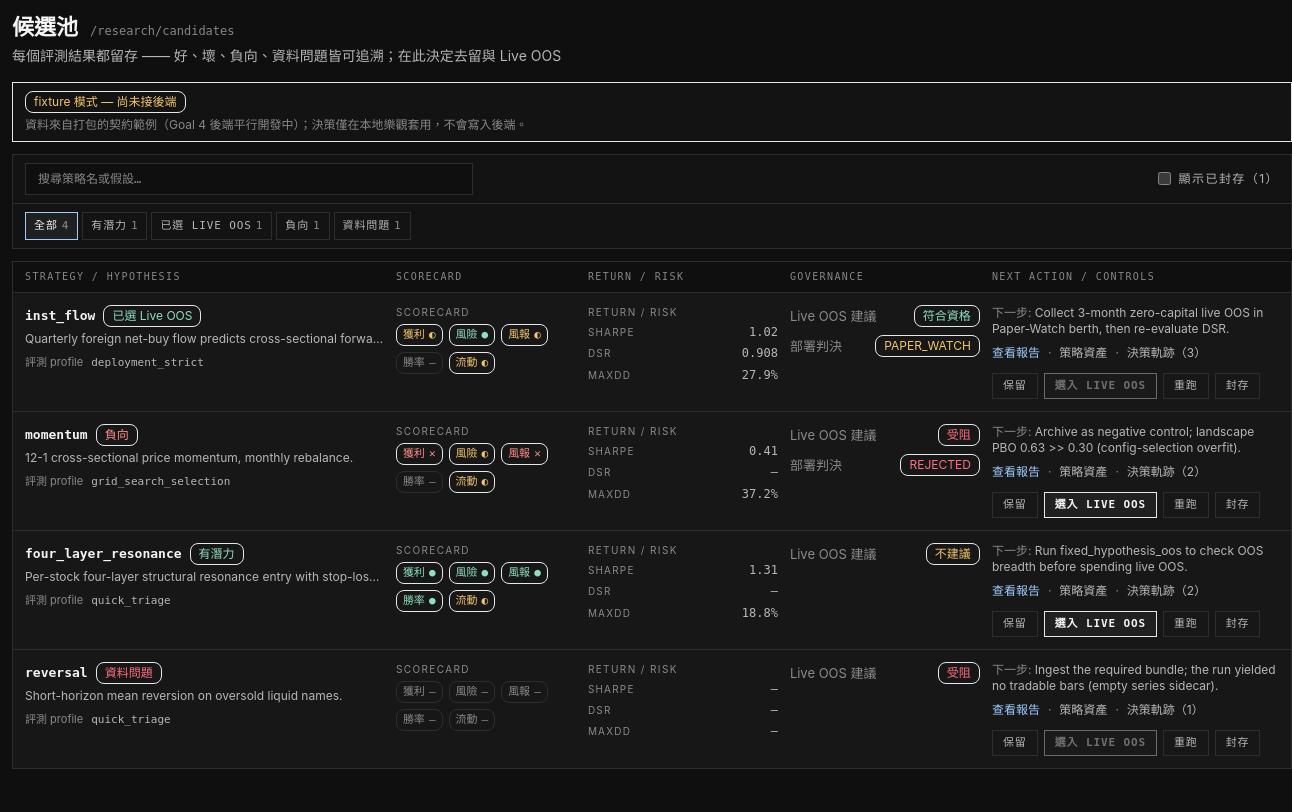
Test: CandidatePoolPage — fixture fallback › state chip filters to a single state
Expected: the heading "momentum" is shown, [25,426,88,445]
Click the button "負向 1" at (303, 226), box [276,212,330,240]
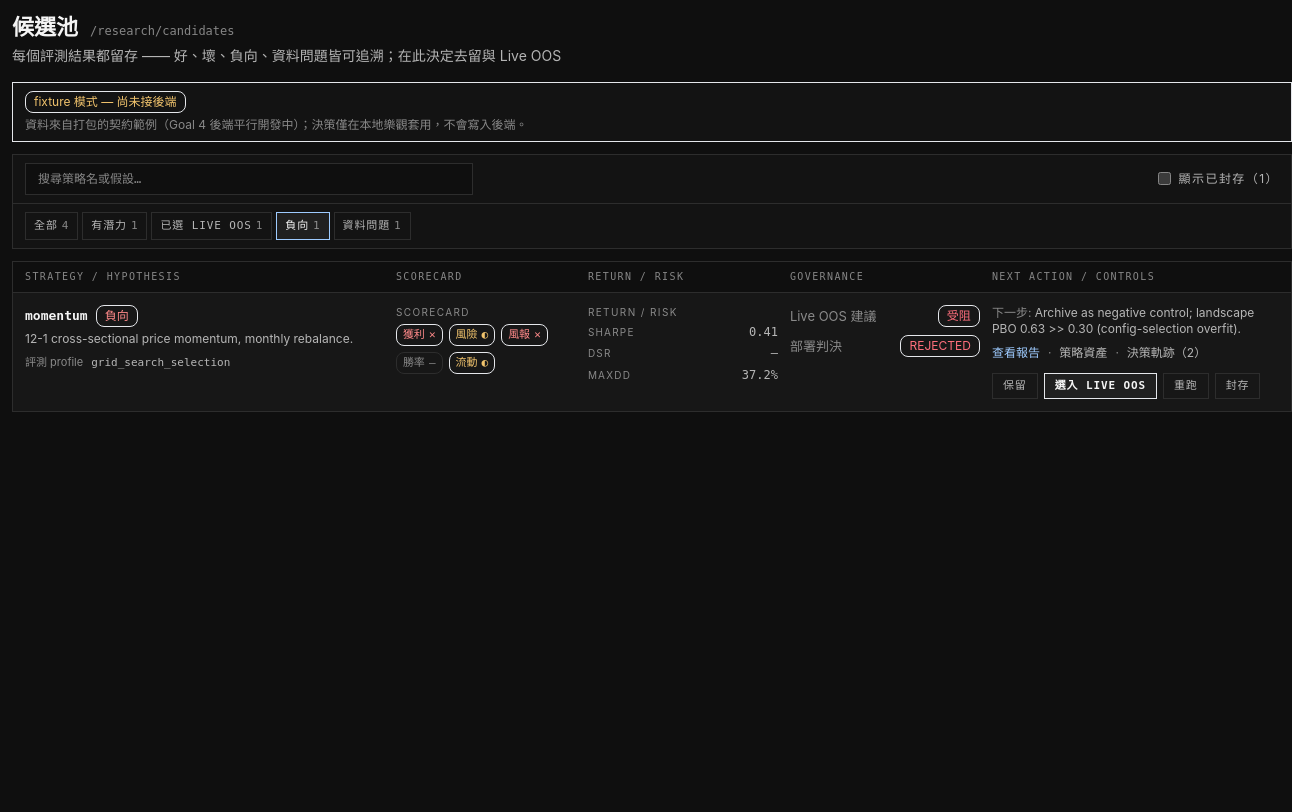
Expected: the heading "momentum" is shown, [25,307,88,326]
Expected: the heading "inst_flow" is gone
